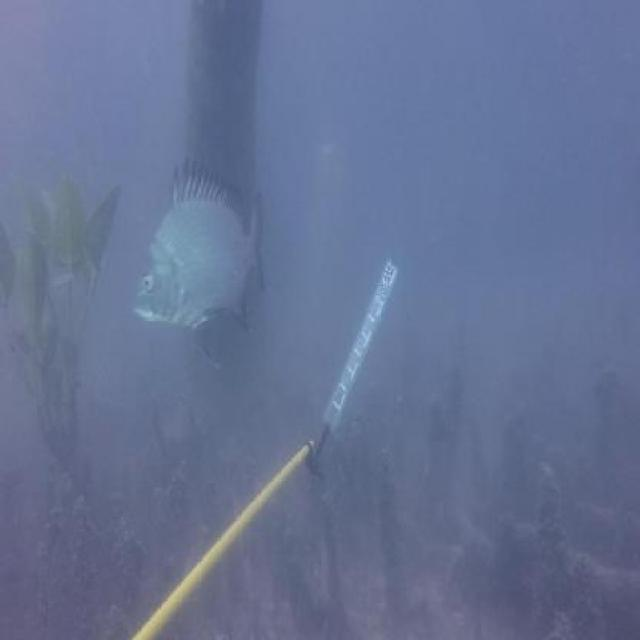acanthopagrus_palmaris: (140, 141, 271, 354)
